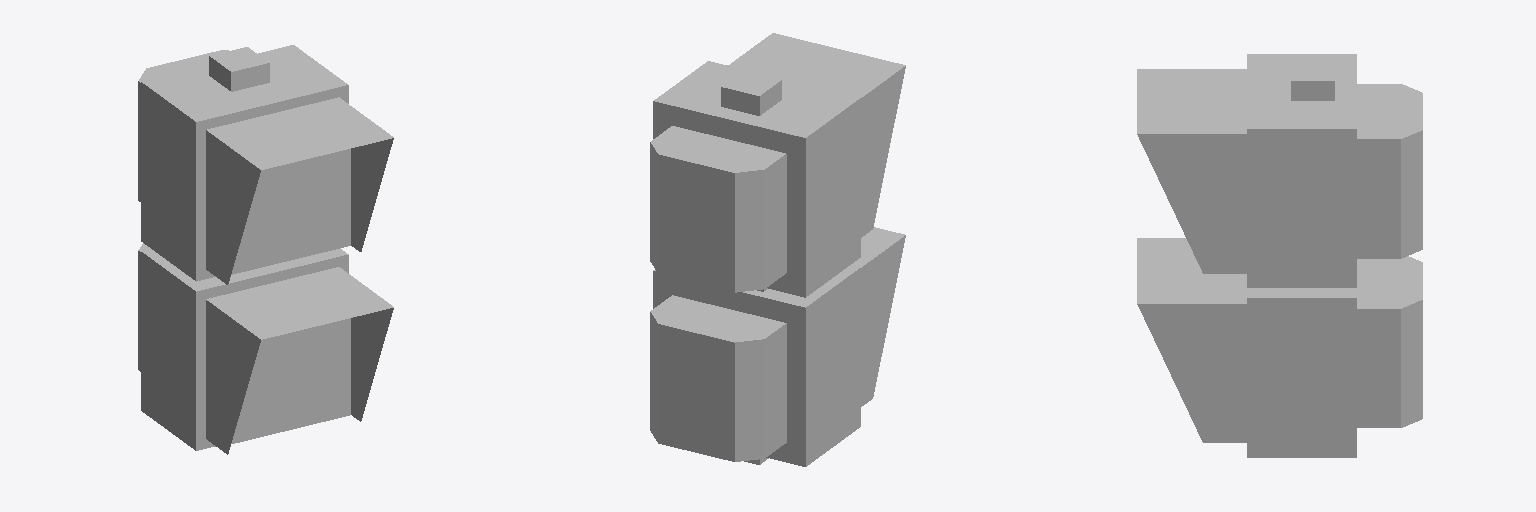
The model's file is pole_crossingsignal.obj.
3 renders of one model, left to right at view 1: azimuth 30°, elevation 25°; view 2: azimuth 150°, elevation 25°; view 3: azimuth 270°, elevation 25°, orthographic.
Parts seen in each view (by area): view 1: body_selection, body, overlay; view 2: body_selection, body; view 3: body_selection, body.
Boxes of the visible parts, box(x1,y1,x2,y2) form: body_selection: box(138, 45, 393, 284); body: box(138, 243, 393, 454); overlay: box(231, 149, 350, 443); body_selection: box(650, 33, 905, 297); body: box(650, 227, 905, 466); body_selection: box(1137, 54, 1422, 287); body: box(1137, 238, 1422, 457).
Size of the model in its own units: 0.4 by 0.925 by 0.65.